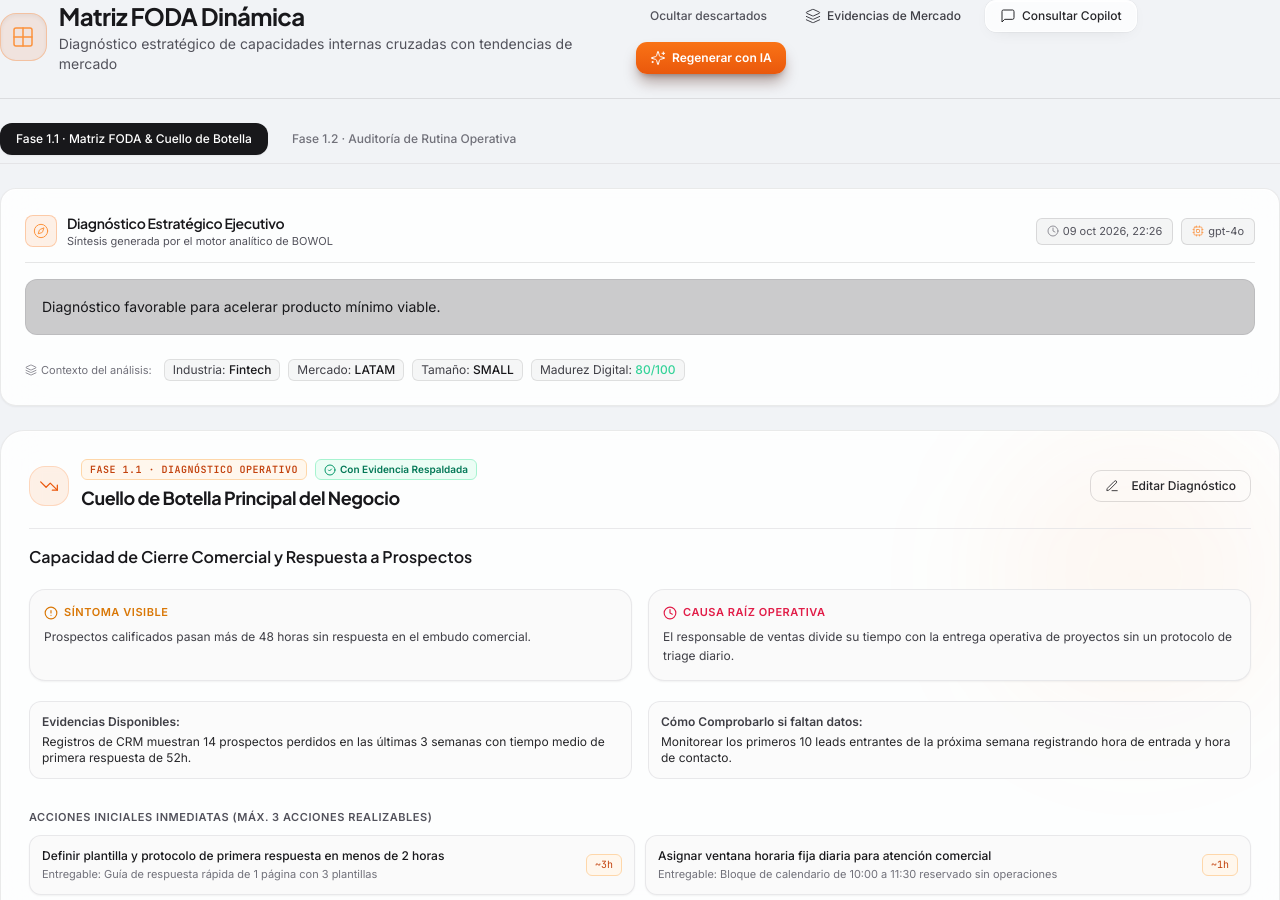
Test: SwotPage Component › opens and closes evidence modal with linked trend signal
Click the button "Evidencias de Mercado": (883, 16) [791, 0, 975, 32]
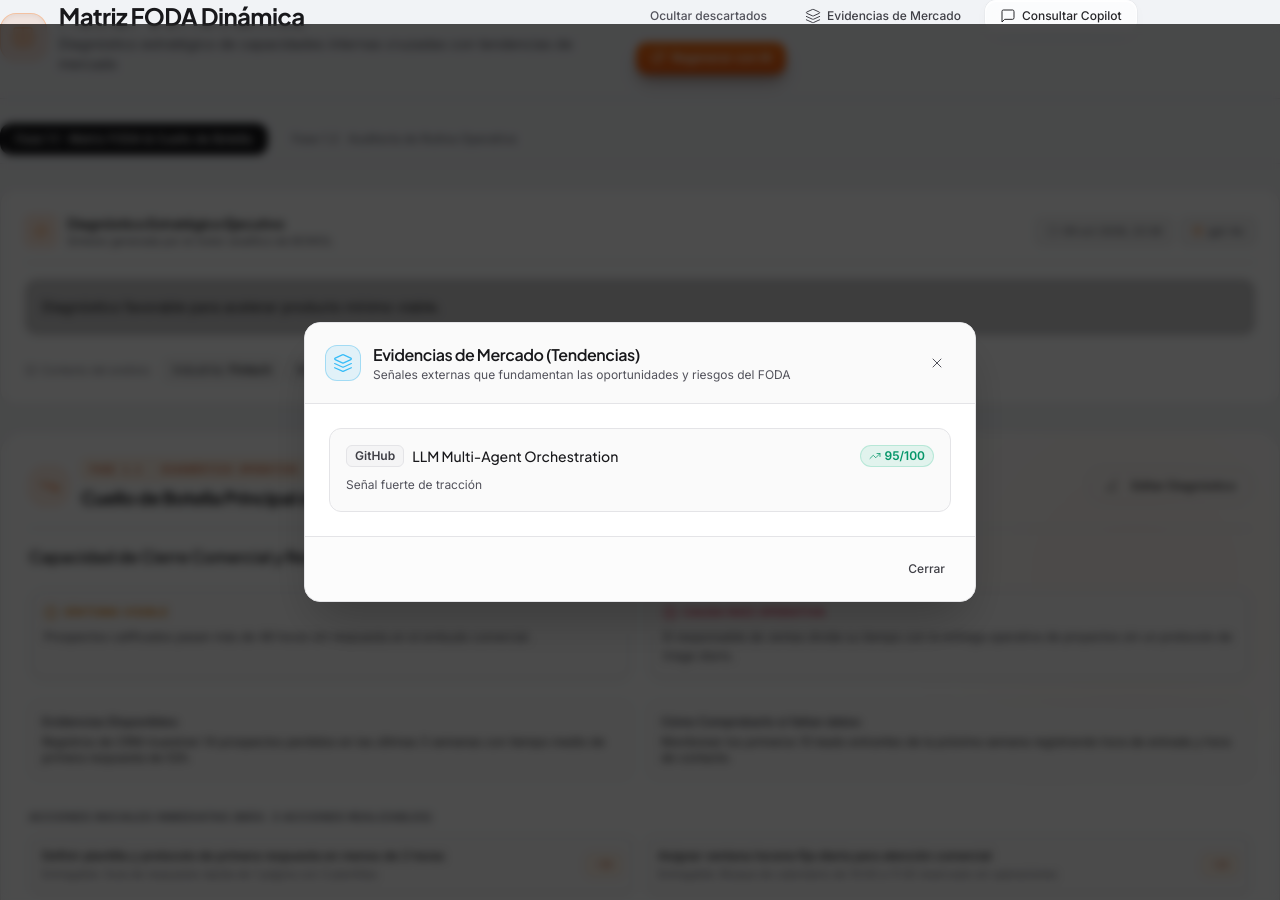
Now the heading "Evidencias de Mercado (Tendencias)" is shown, box [373, 344, 640, 365]
Now the heading "LLM Multi-Agent Orchestration" is shown, box [412, 446, 618, 466]
Now the text "95/100" is shown, box [860, 445, 934, 467]
Click the button named "Cerrar modal": (937, 363) [919, 345, 955, 381]
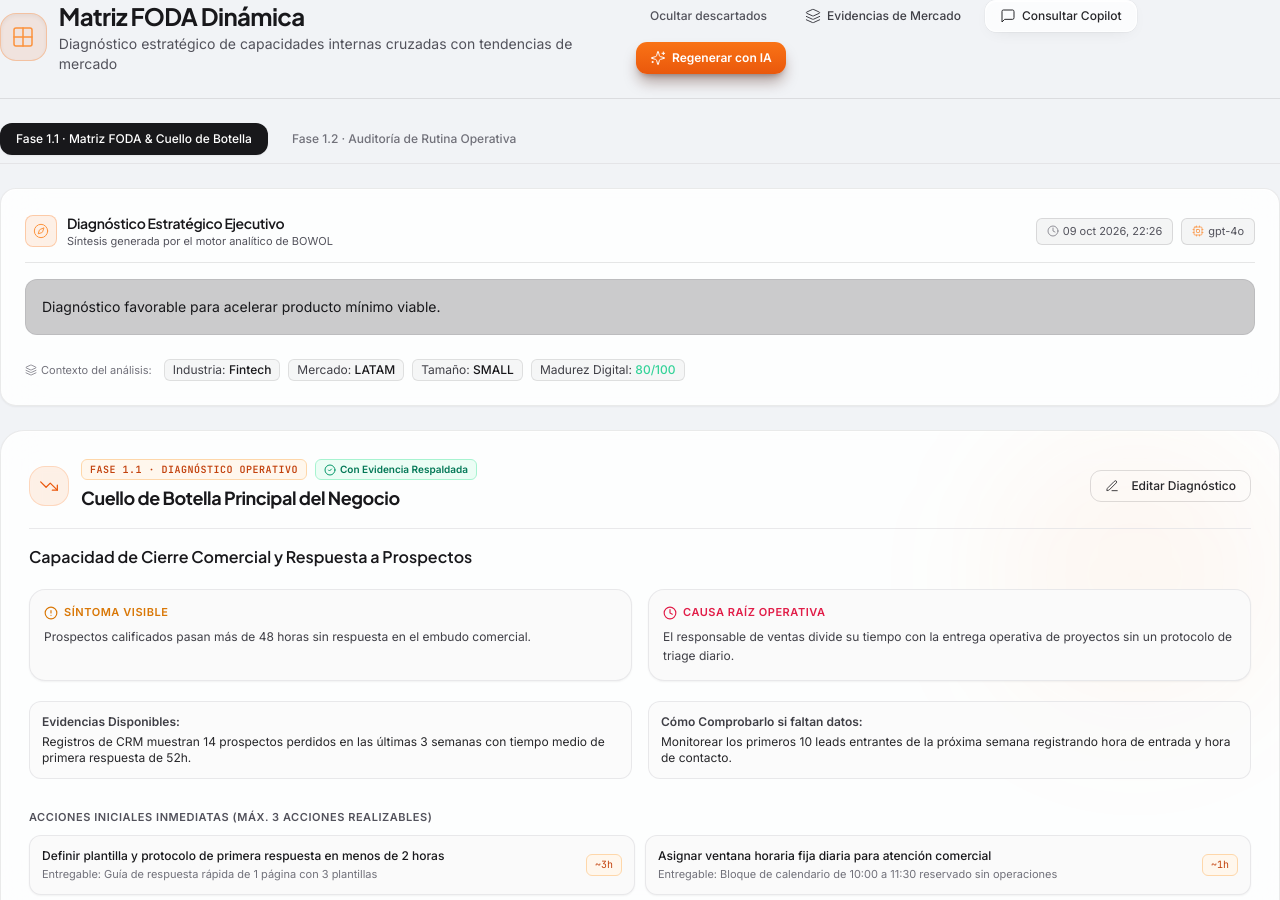
Now the heading "Evidencias de Mercado (Tendencias)" is gone
